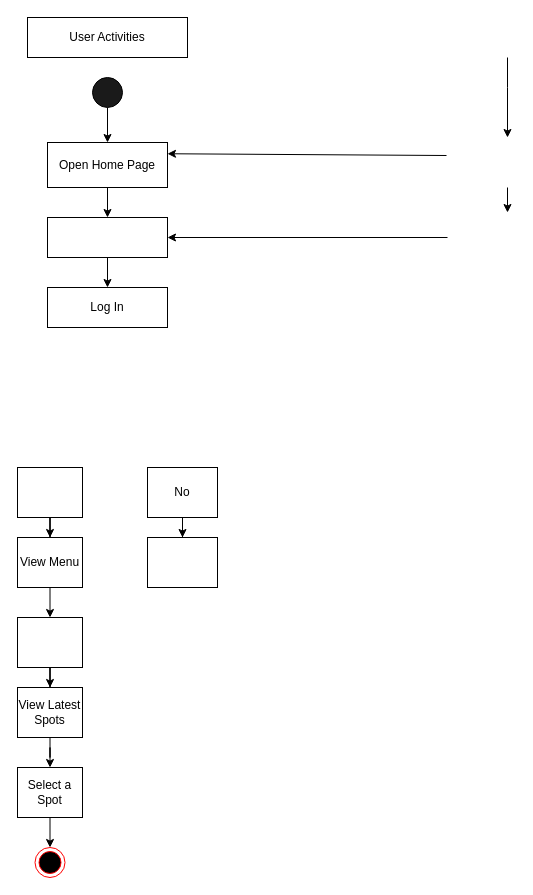
The diagram is 533 pixels wide and 895 high, and some of its shapes have lost their labels. The centre of each missing label's shape, as x and y in pixels:
"Search for Spots" goes at pixel 49 642.
"Show Error Message!" goes at pixel 182 562.
"View log in Option" goes at pixel 107 237.
"Yes" goes at pixel 49 492.
